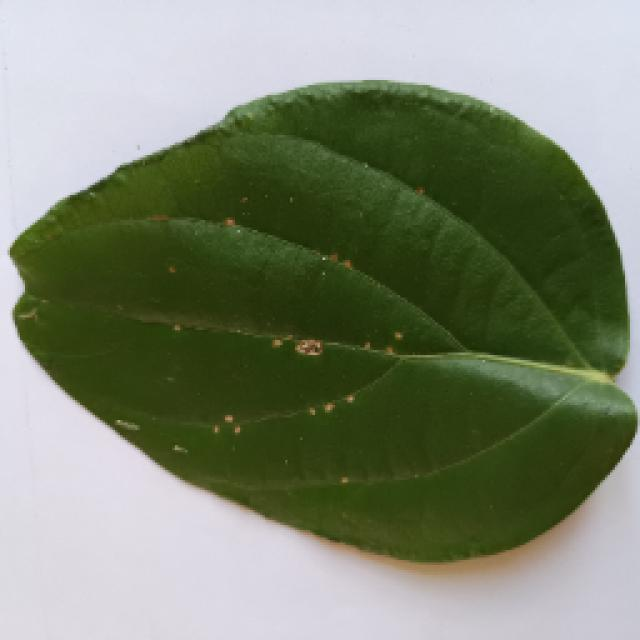pollu-disease: (10, 83, 628, 565)
